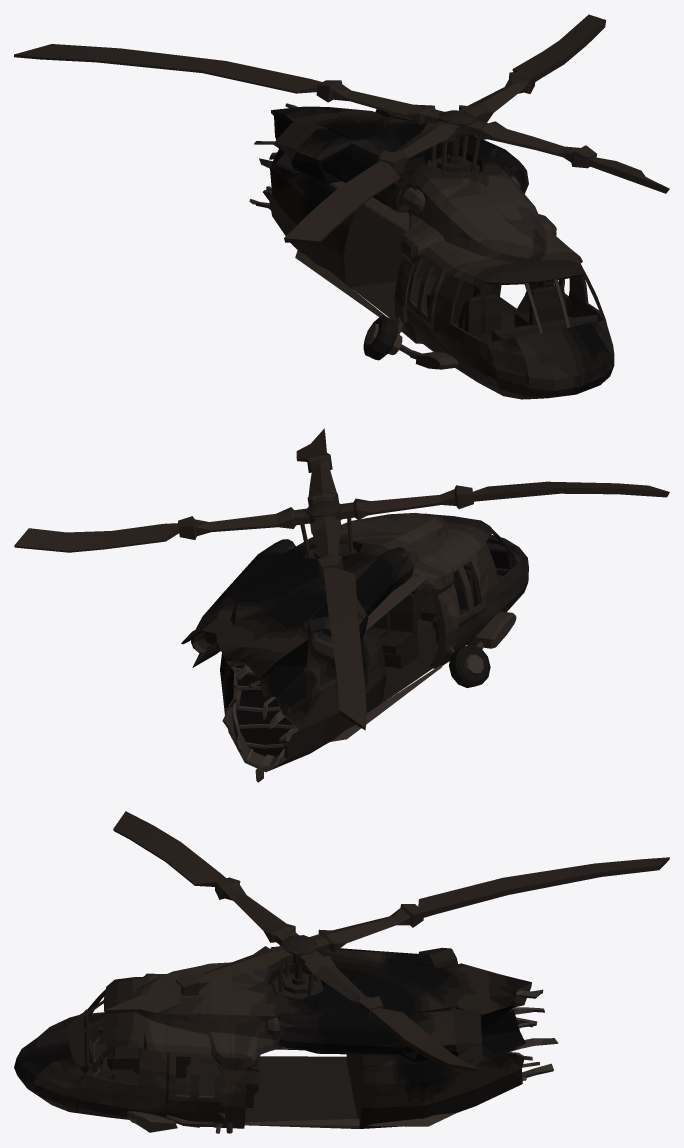
The model's file is SM_Veh_Helicopter_Transport_01_Destroyed_Front.fbx.
3 renders of one model, top to bottom at view 1: azimuth 30°, elevation 25°; view 2: azimuth 150°, elevation 25°; view 3: azimuth 270°, elevation 25°, orthographic. The views are drawn at different scales.
Visible parts, largest first — view 1: SM_Veh_Helicopter_Transport_01_Destroyed_Front; view 2: SM_Veh_Helicopter_Transport_01_Destroyed_Front; view 3: SM_Veh_Helicopter_Transport_01_Destroyed_Front.
Part boxes in pixels (box(x1,y1,x2,y2)): SM_Veh_Helicopter_Transport_01_Destroyed_Front: box(14, 14, 669, 399); SM_Veh_Helicopter_Transport_01_Destroyed_Front: box(14, 428, 669, 782); SM_Veh_Helicopter_Transport_01_Destroyed_Front: box(14, 811, 669, 1133).
Bounding box in the file's own units: 877 × 353 × 1085.
